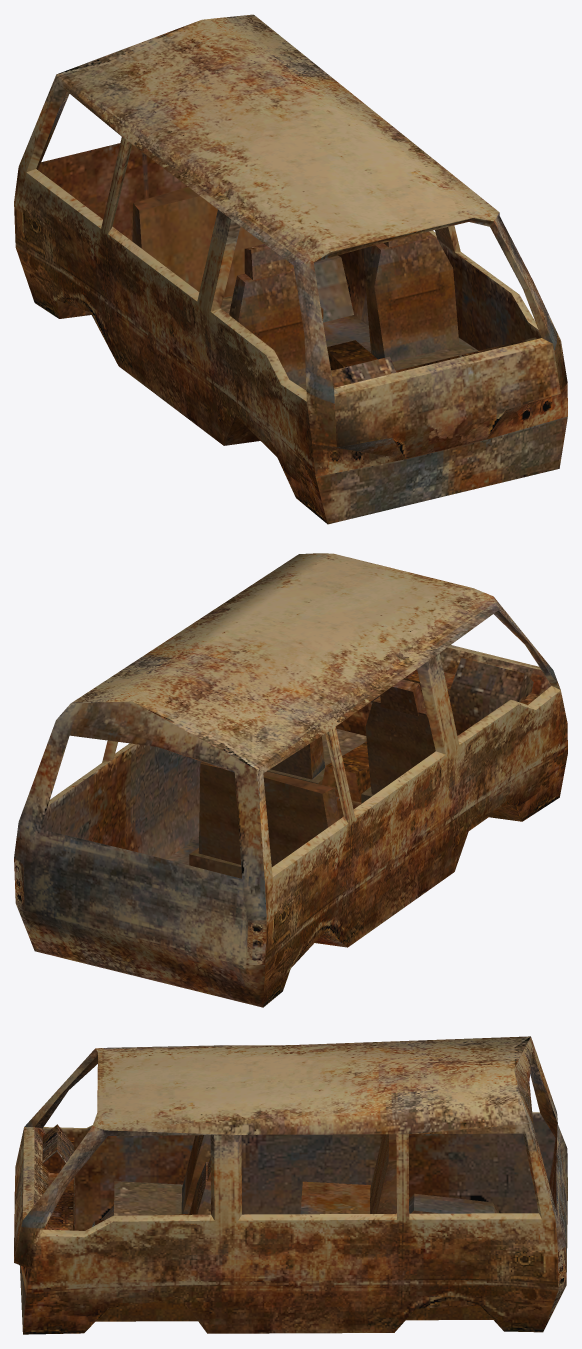
The model's file is Prop_Wj034a_lod1.glb.
3 renders of one model, top to bottom at view 1: azimuth 30°, elevation 25°; view 2: azimuth 150°, elevation 25°; view 3: azimuth 270°, elevation 25°, orthographic. The views are drawn at different scales.
Parts seen in each view (by area): view 1: xiutz_wj034a_lod1; view 2: xiutz_wj034a_lod1; view 3: xiutz_wj034a_lod1.
Boxes of the visible parts, left/top/right/bottom form: xiutz_wj034a_lod1: left=14, top=14, right=567, bottom=524; xiutz_wj034a_lod1: left=14, top=553, right=567, bottom=1007; xiutz_wj034a_lod1: left=14, top=1036, right=567, bottom=1334.
Size of the model in its own units: 2.24 by 2.21 by 4.75.
1 material, 1 textured.
